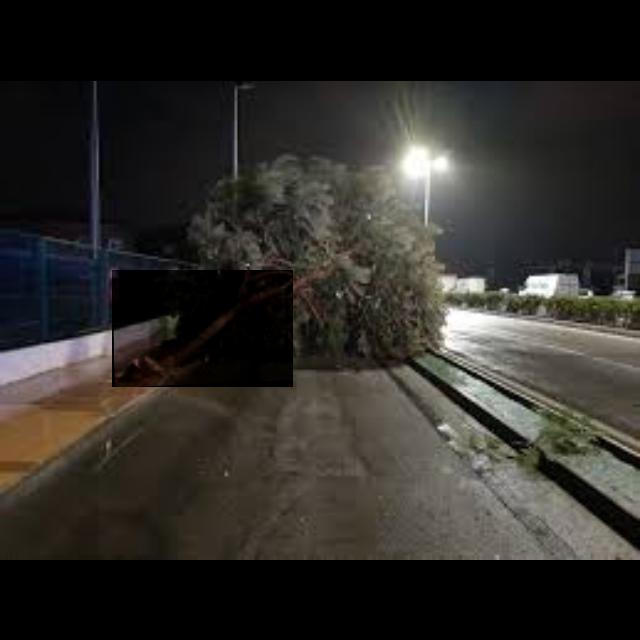Fallen Tree: (112, 270, 294, 388)
